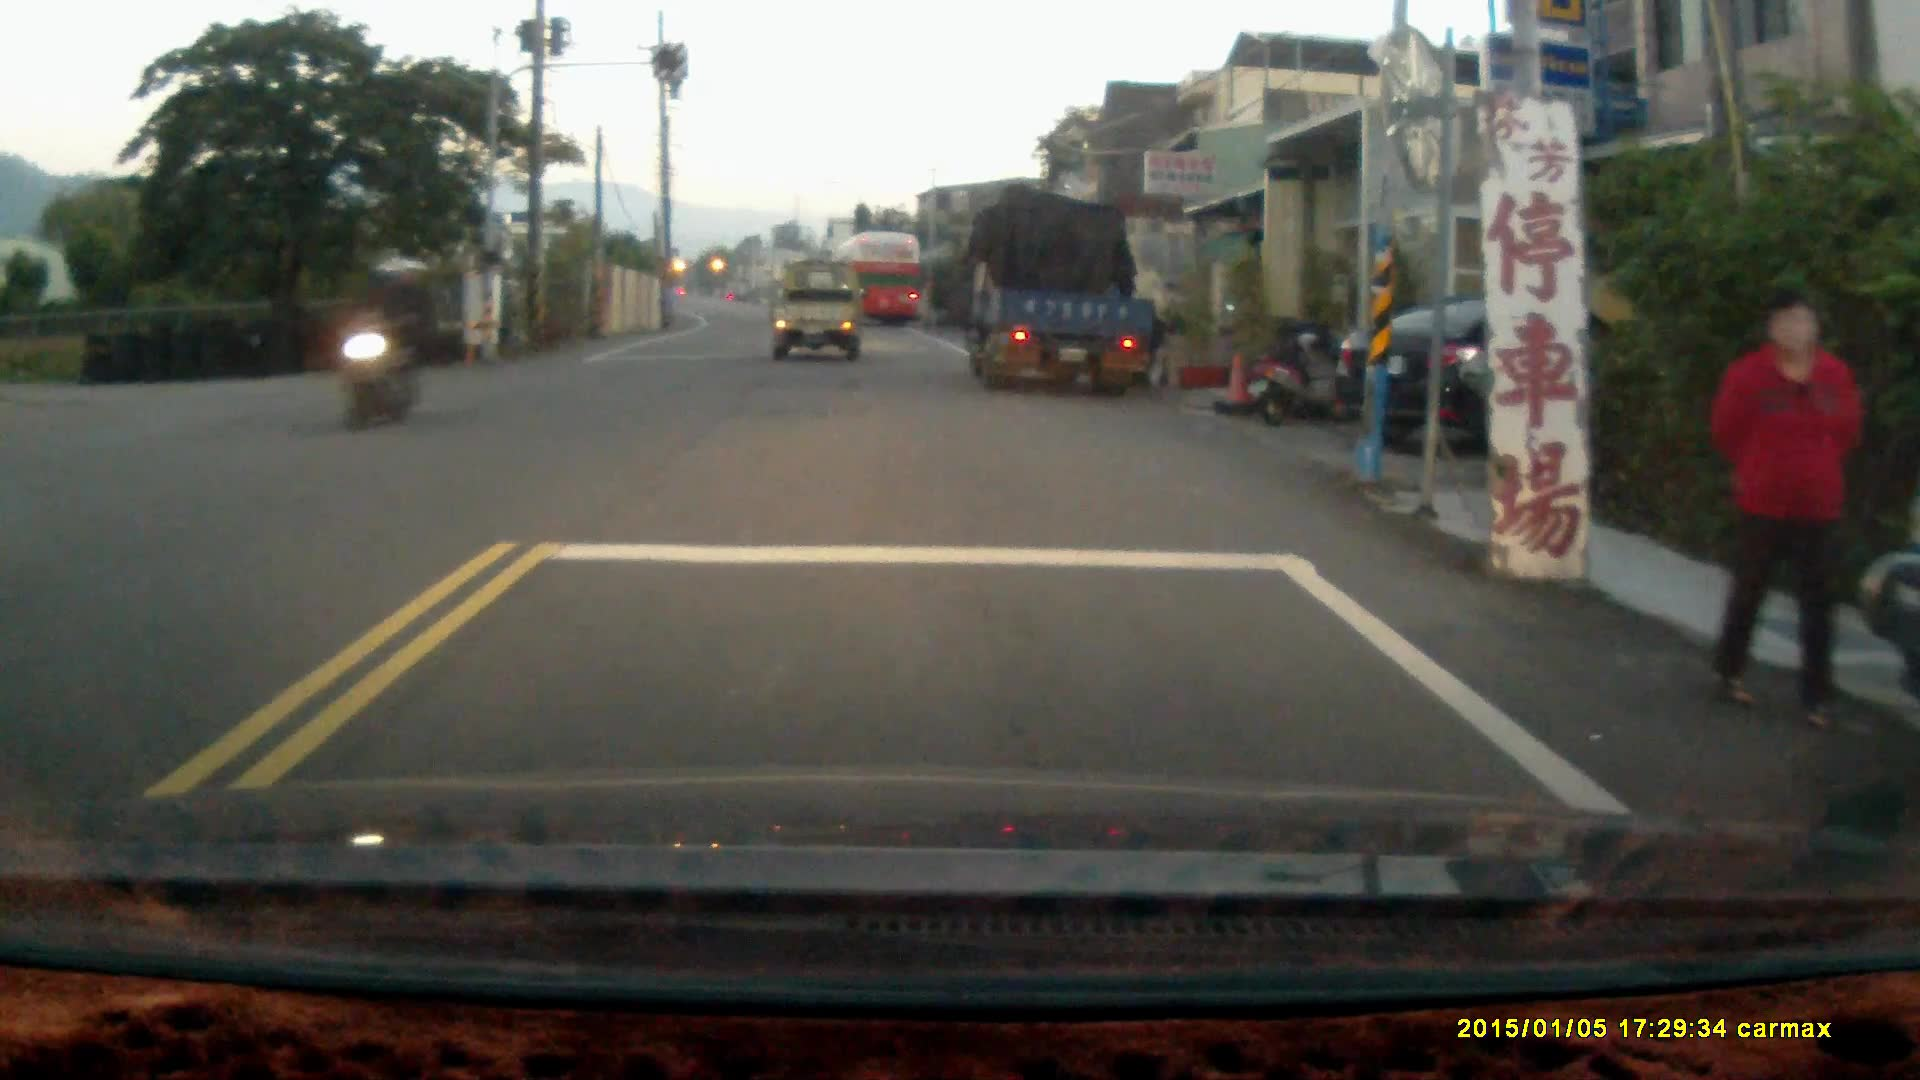pedestrian: (1695, 283, 1865, 737)
rider: (332, 256, 429, 433)
vehicle: (1324, 290, 1699, 461), (965, 190, 1159, 388), (830, 230, 926, 332), (769, 260, 862, 359)
